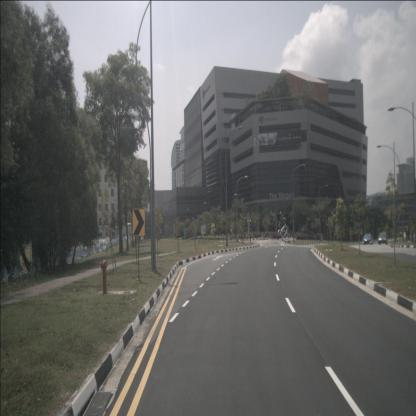vehicle-car: (378, 232, 388, 245), (363, 233, 373, 244)
